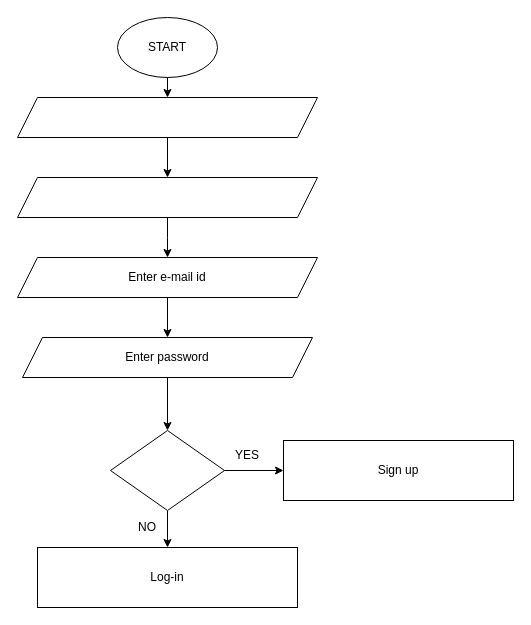
Some shapes in this 531 by 625 pixel diagram are drawn without their labels. The centre of each missing label's shape, as x and y in pixels:
if new to vaxer: the point at 167,470
Register to get vaccinated: the point at 167,197
Welcome to Vaxer!: the point at 167,117
